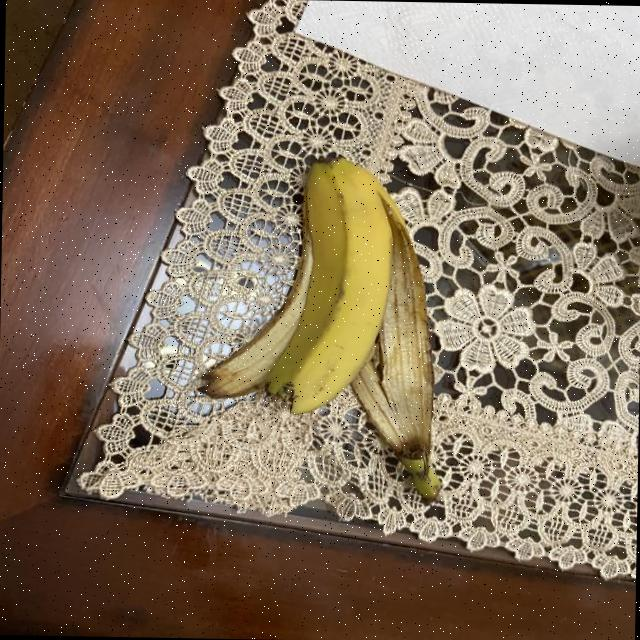banana-peel: (197, 151, 446, 500), (263, 154, 394, 416), (346, 178, 446, 500)
